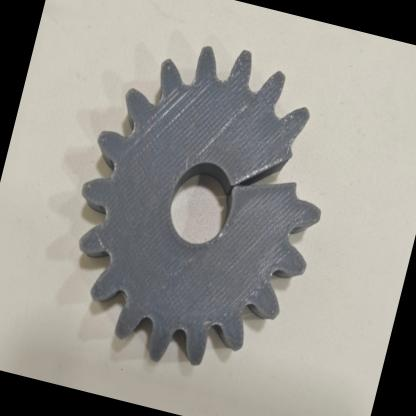defect: (208, 89, 361, 257)
gear: (4, 3, 375, 398)
